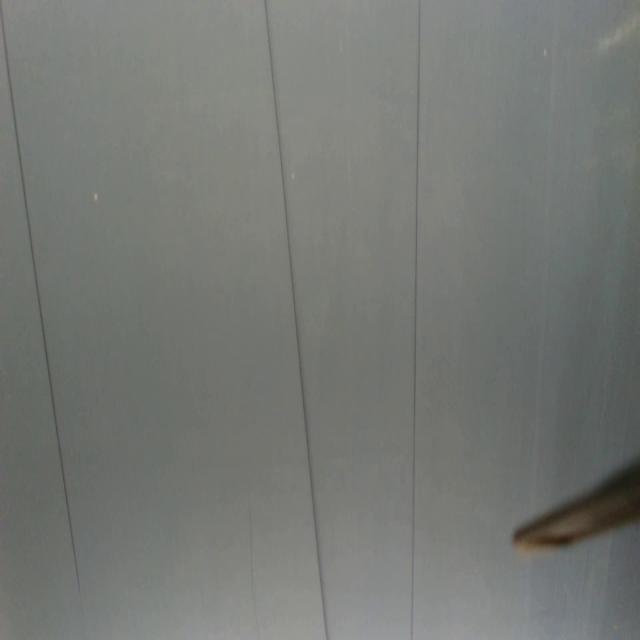crease: (0, 0, 82, 598), (264, 0, 331, 639), (530, 0, 559, 500), (409, 0, 423, 640), (248, 510, 260, 633)
hole: (93, 190, 100, 208), (290, 168, 296, 187), (541, 48, 549, 60)
